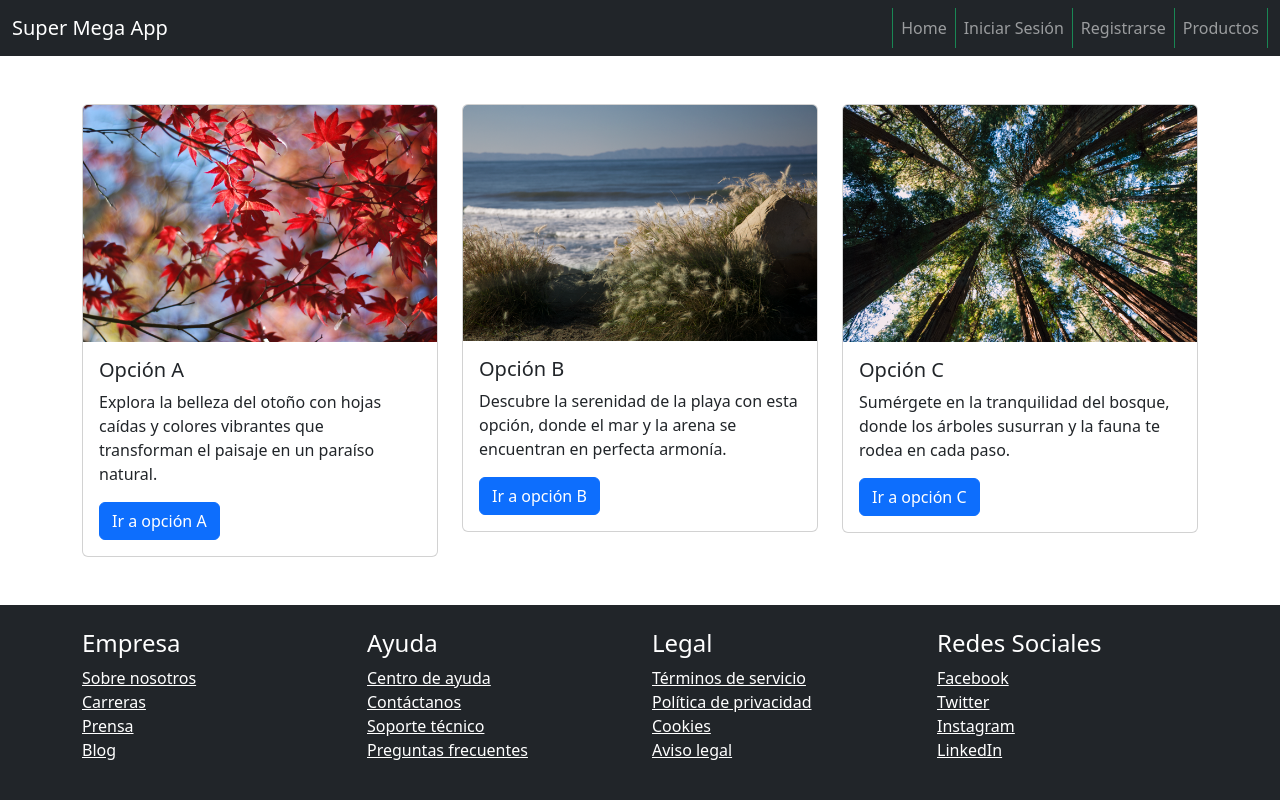
Test case: Formulario Registro › Debe mostrar error si los parámetros no coinciden
Click the link to "/register" at point(1124, 28), box [1073,8,1175,48]
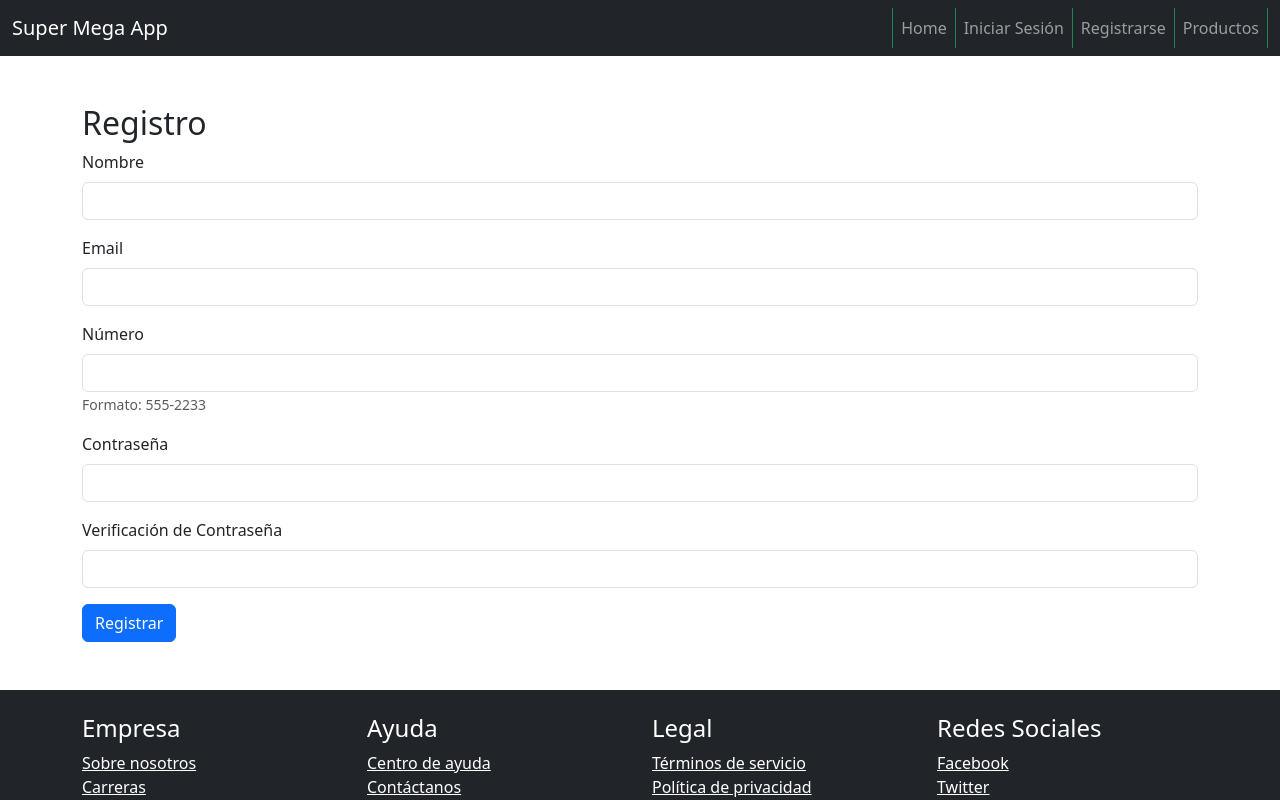
Type "password123" into the password field named "password" at point(640, 483), box [82,464,1198,502]
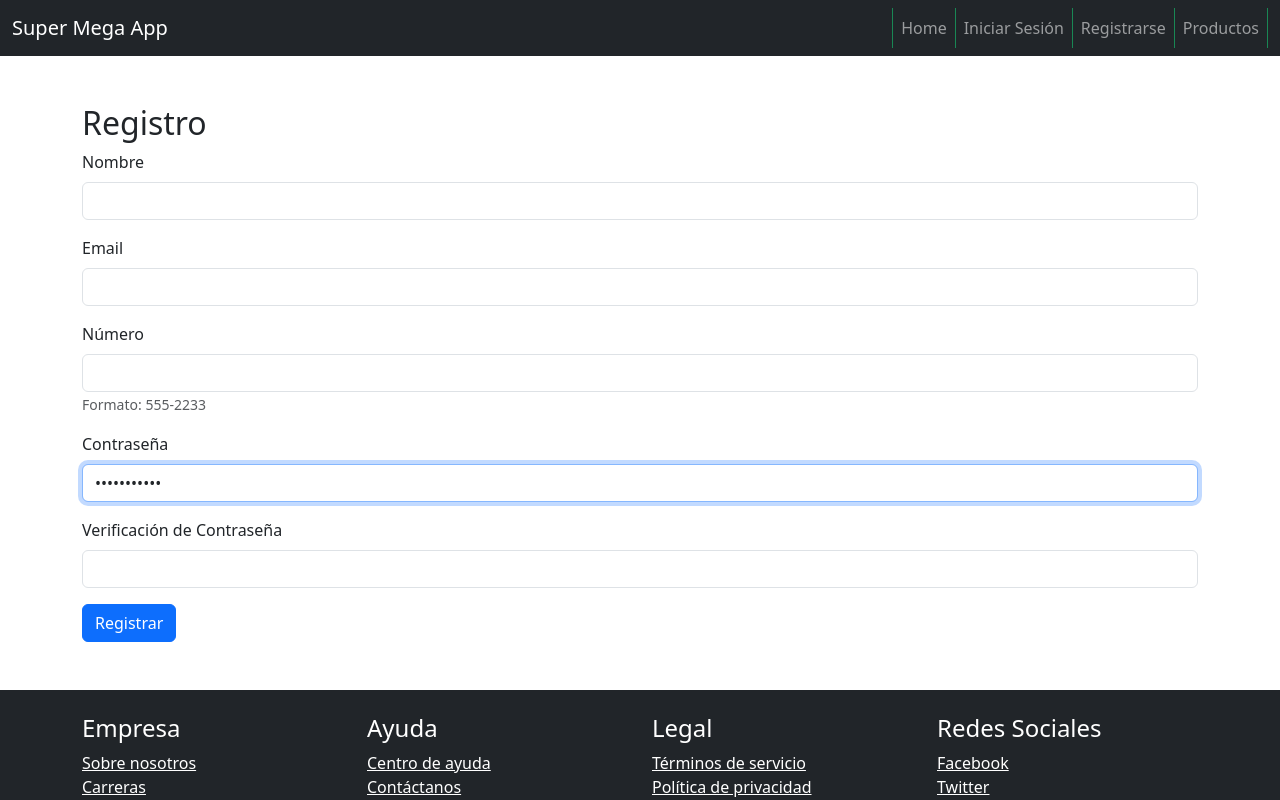
Type "password321" into the password field named "confirmPassword" at point(640, 569), box [82,550,1198,588]
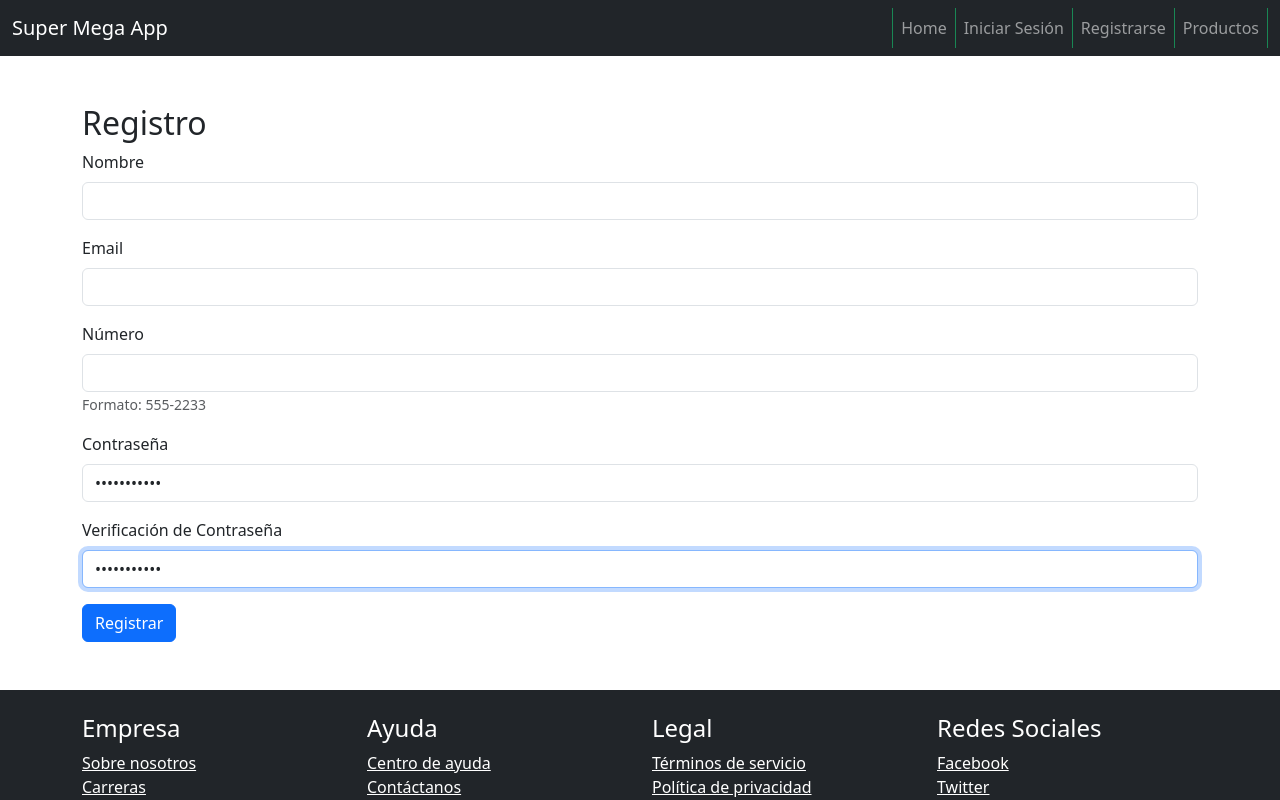
Submit the form, box [82,150,1198,642]
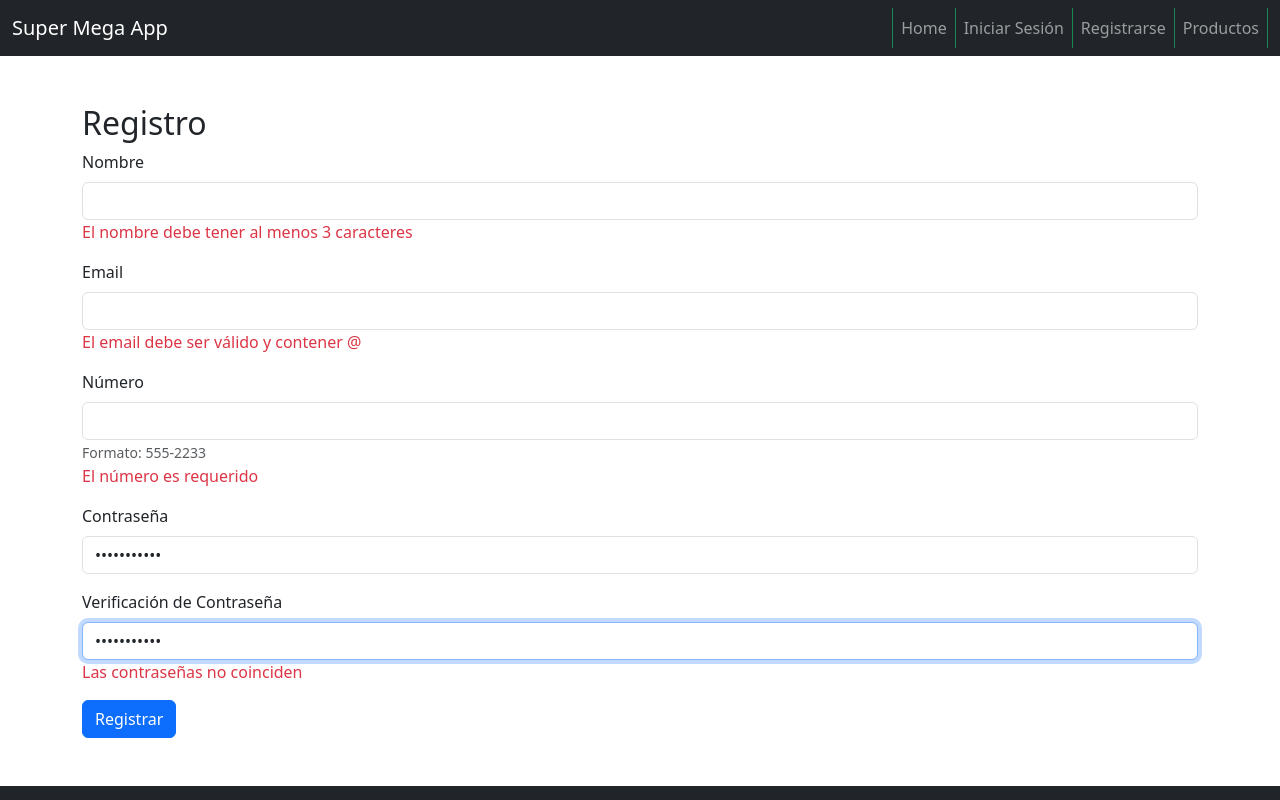
Check: the text "El nombre debe tener al menos 3 caracteres" is shown, box [82,221,413,243]
Check: the text "Las contraseñas no coinciden" is shown, box [82,661,302,683]
